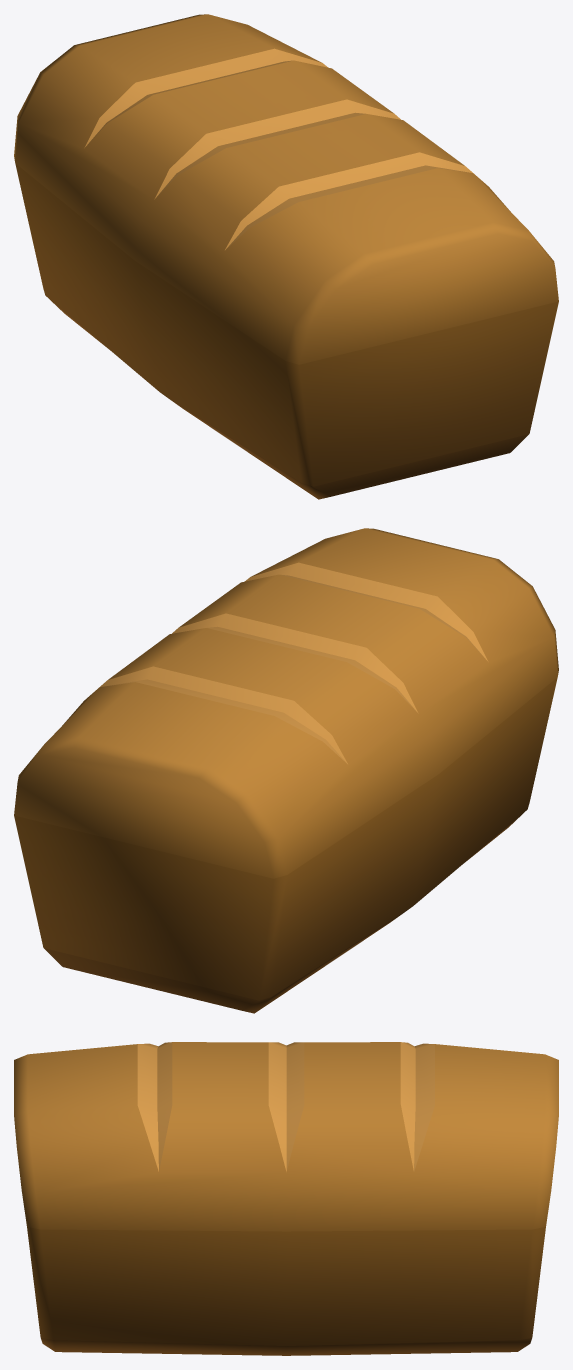
File: Bread_1_B.glb
The picture shows the model from 3 angles, top to bottom: view 1: azimuth 30°, elevation 25°; view 2: azimuth 150°, elevation 25°; view 3: azimuth 270°, elevation 25°; orthographic projection. The views are drawn at different scales.
Parts seen in each view (by area): view 1: Bread_1_B; view 2: Bread_1_B; view 3: Bread_1_B.
Part boxes in pixels (x1,y1,x2,y2): Bread_1_B: [14, 14, 558, 499]; Bread_1_B: [14, 528, 558, 1013]; Bread_1_B: [14, 1042, 558, 1355].
Bounding box in the file's own units: 0.2297 × 0.1874 × 0.3914.
Materials: 1 (1 with a texture image).
